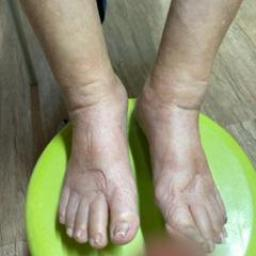Dorsal View -Both Feet-: (14, 47, 251, 255)
